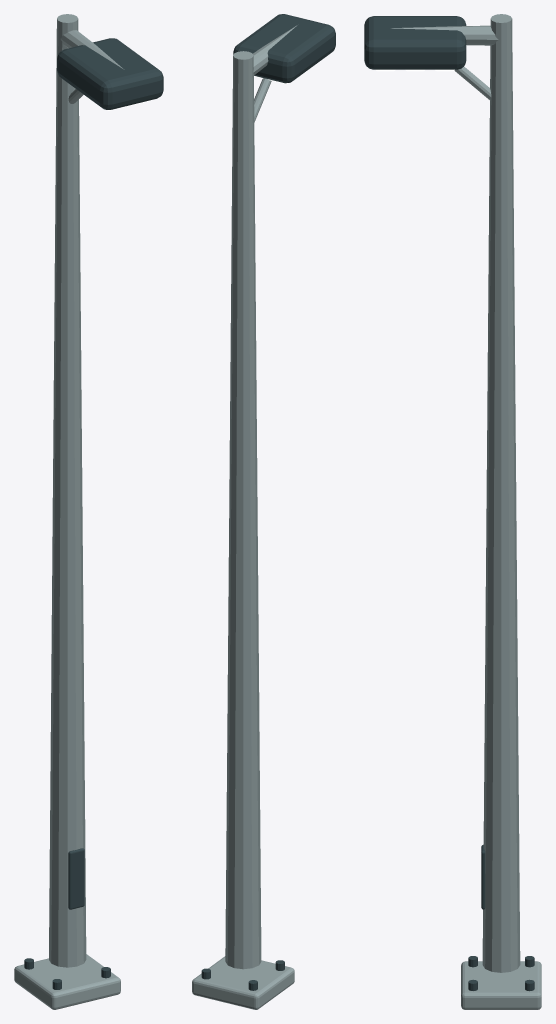
Rendered from lamp.glb.
3 views of the same model, side by side, from view 1: azimuth 30°, elevation 25°; view 2: azimuth 150°, elevation 25°; view 3: azimuth 270°, elevation 25° (orthographic). The views are drawn at different scales.
Parts seen in each view (by area): view 1: tapered-pole, luminaire, base-plate, service-hatch, arm; view 2: tapered-pole, luminaire, base-plate, arm; view 3: tapered-pole, luminaire, base-plate, arm.
Part boxes in pixels (bbox=[...]): tapered-pole: bbox=[49, 14, 86, 967]; luminaire: bbox=[57, 38, 163, 109]; base-plate: bbox=[14, 954, 120, 1009]; service-hatch: bbox=[68, 848, 84, 909]; arm: bbox=[60, 30, 124, 69]; tapered-pole: bbox=[225, 51, 261, 969]; luminaire: bbox=[233, 14, 335, 83]; base-plate: bbox=[192, 956, 294, 1009]; arm: bbox=[253, 25, 297, 75]; tapered-pole: bbox=[482, 14, 520, 972]; luminaire: bbox=[364, 16, 466, 69]; base-plate: bbox=[461, 961, 541, 1009]; arm: bbox=[391, 25, 498, 45].
Size of the model in its own units: 0.3 by 4 by 0.66.
